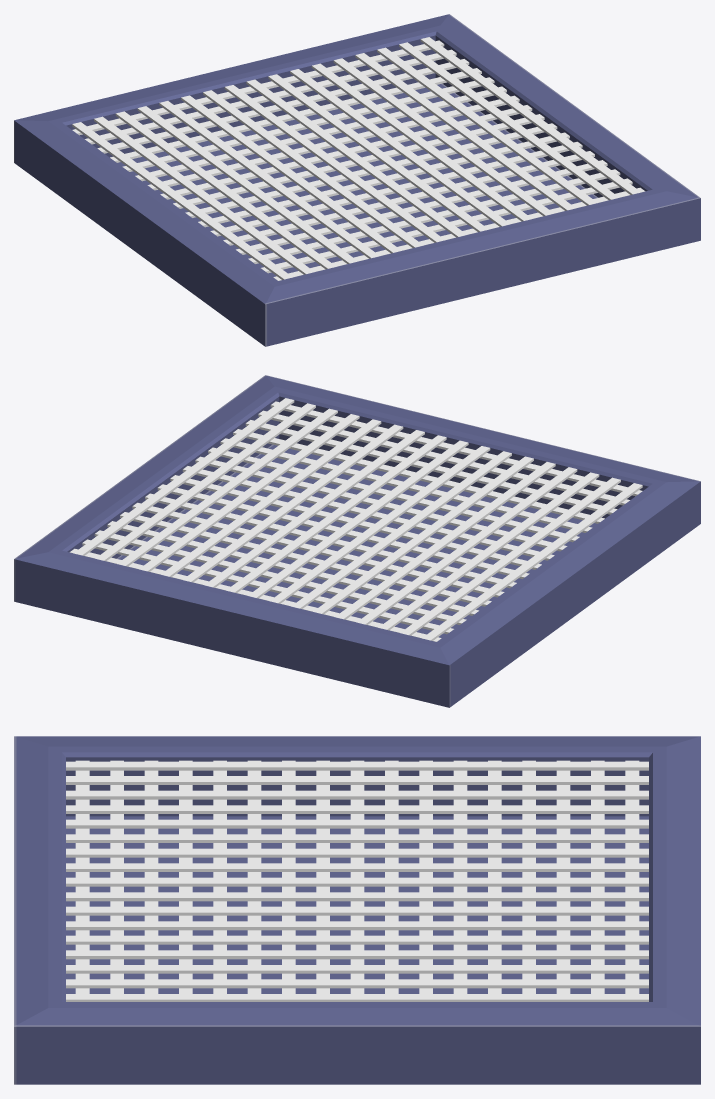
The model's file is StandIn_GridGroundTile.fbx.
3 views of the same model, one above another, from view 1: azimuth 30°, elevation 25°; view 2: azimuth 150°, elevation 25°; view 3: azimuth 270°, elevation 25° (orthographic). The views are drawn at different scales.
Visible parts, largest first — view 1: FloorGrid; view 2: FloorGrid; view 3: FloorGrid.
Boxes of the visible parts, <box> form: FloorGrid: <box>14,14,700,346</box>; FloorGrid: <box>14,375,700,707</box>; FloorGrid: <box>14,736,700,1084</box>.
Size of the model in its own units: 100 by 10 by 100.
